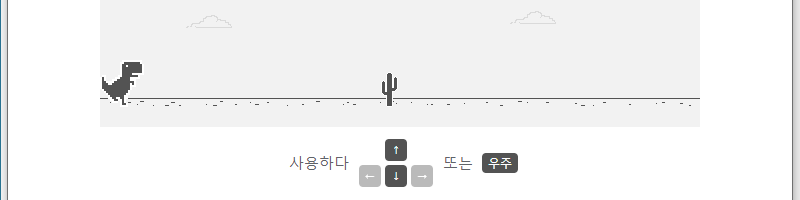dinosaur: (101, 56, 145, 105)
obstacle: (379, 71, 401, 107)
